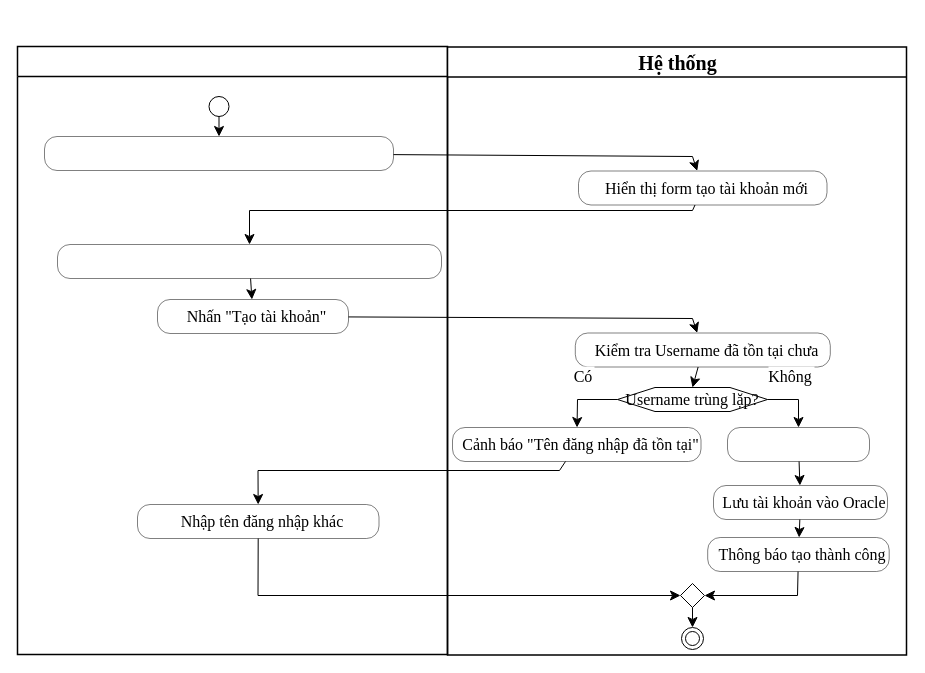
Some shapes in this 925 by 673 pixel diagram are drawn without their labels. The shapes that lost their labels are listed below. From the top down, each one's box as (x1, y1, x2, y2) in pixels, then its label:
(44, 136, 393, 170): Chọn chức năng "Lập tài khoản người dùng nội bộ"
(57, 244, 441, 278): Nhập thông tin (Họ tên, Username, Mật khẩu tạm, Email)
(16, 45, 448, 655): Quản trị viên
(727, 427, 869, 461): Mã hóa mật khẩu
